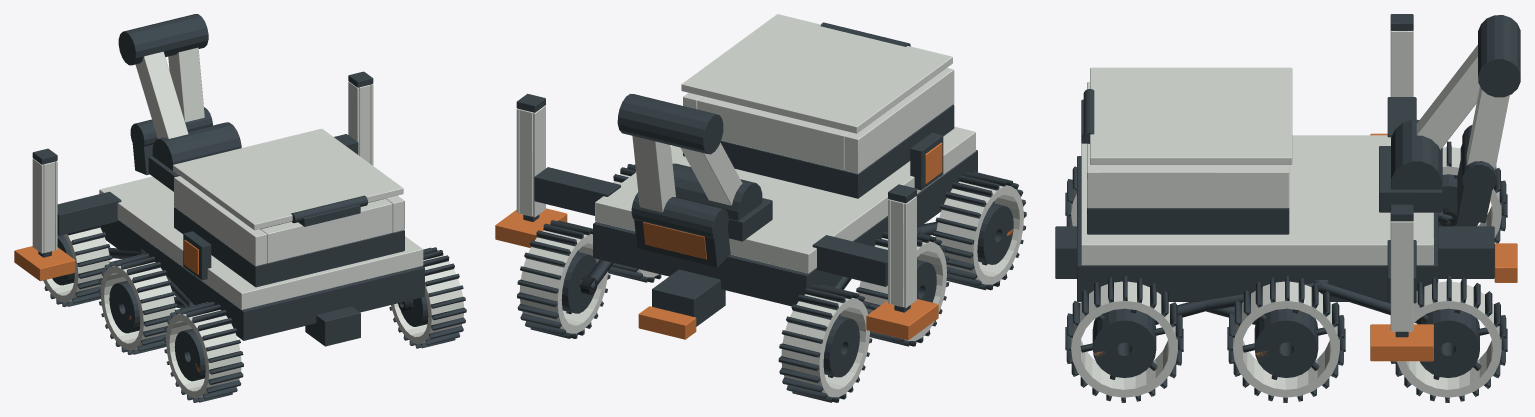
File: zhulei-r1.glb
The picture shows the model from 3 angles, left to right: view 1: azimuth 30°, elevation 25°; view 2: azimuth 150°, elevation 25°; view 3: azimuth 270°, elevation 25°; orthographic projection. The views are drawn at different scales.
Visible parts, largest first — view 1: HoodLidPanel, BodyShell, FrameBed, Wheel_LR, Wheel_LM, RearFloor, Wheel_RR, RearWallBack, Wheel_LF, RearWallL, ElbowAxle, UpperArm (+17 smaller); view 2: HoodLidPanel, BodyShell, Wheel_LF, FrameBed, Wheel_LR, Wheel_RF, RearFloor, RearWallFront, RearWallL, ElbowAxle, Wheel_LM, TowFrontMount (+20 smaller); view 3: BodyShell, HoodLidPanel, Wheel_RM, Wheel_RR, Wheel_RF, FrameBed, RearWallR, RearFloor, ElbowAxle, ShoulderAxle, TowFrontMount, UpperArm (+17 smaller).
Boxes of the visible parts, x1,y1,x2,y2 form: HoodLidPanel: (173,128,403,230); BodyShell: (99,176,423,309); FrameBed: (100,220,424,340); Wheel_LR: (163,301,243,402); Wheel_LM: (98,254,177,354); RearFloor: (174,207,404,287); Wheel_RR: (389,247,466,348); RearWallBack: (261,198,392,263); Wheel_LF: (43,225,112,306); RearWallL: (174,176,267,265); ElbowAxle: (118,14,208,65); UpperArm: (135,51,188,138); HoodLidPanel: (681,14,952,133); BodyShell: (595,126,975,273); Wheel_LF: (778,284,872,402); FrameBed: (593,150,977,306); Wheel_LR: (933,171,1026,290); Wheel_RF: (517,220,610,338); RearFloor: (683,104,954,198); RearWallFront: (697,96,849,170); RearWallL: (844,67,954,173); ElbowAxle: (617,93,723,154); Wheel_LM: (856,231,949,346); TowFrontMount: (652,269,725,326); BodyShell: (1081,135,1433,265); HoodLidPanel: (1090,67,1292,165); Wheel_RM: (1227,276,1345,402); Wheel_RR: (1065,276,1183,402); Wheel_RF: (1390,276,1507,402); FrameBed: (1077,156,1438,301); RearWallR: (1087,165,1289,208); RearFloor: (1087,208,1289,234); ElbowAxle: (1478,15,1520,97); ShoulderAxle: (1391,119,1442,189); TowFrontMount: (1438,226,1494,278); UpperArm: (1416,45,1479,149).
Bounding box in the file's own units: 1.74 × 1.1 × 1.61.
